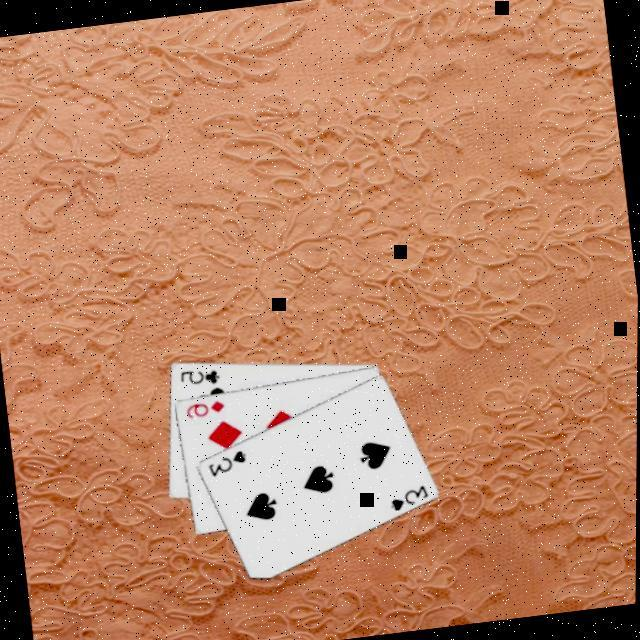3S: (204, 448, 252, 481), (386, 483, 434, 516)
5C: (177, 364, 224, 391)
6D: (182, 398, 228, 423)
